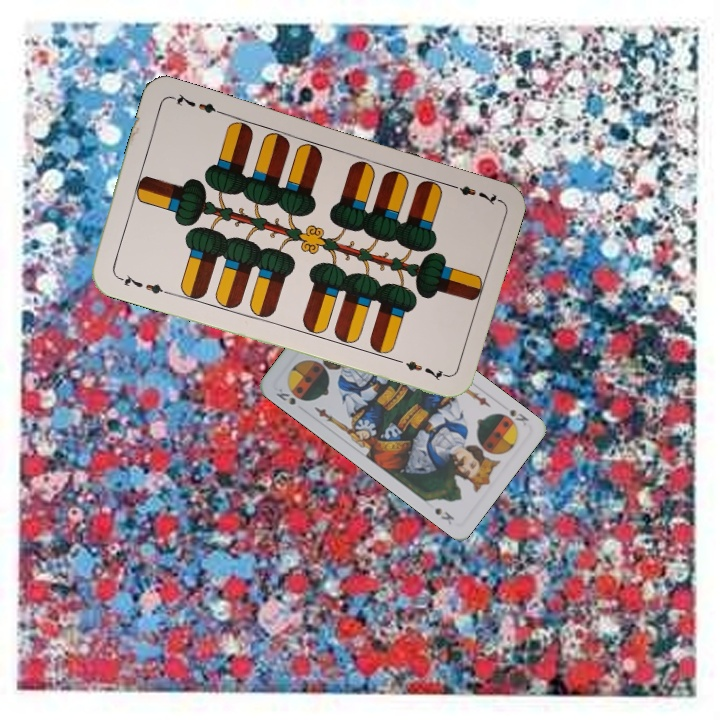E7: (443, 179, 501, 208), (112, 271, 170, 297)
SK: (494, 400, 532, 430), (272, 384, 298, 408)
